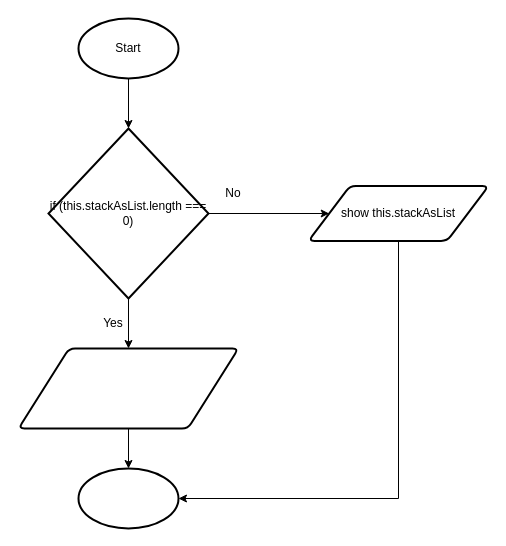
The diagram is 506 pixels wide and 546 high, and some of its shapes have lost their labels. Here are the shapes that lost their labels. From the top down, the box of each, then its label:
(17, 347, 239, 429): show "Nothing in the list!"
(77, 467, 179, 529): Stop
